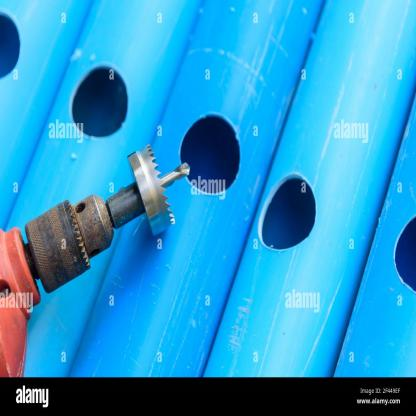PVC: (0, 1, 415, 378)
